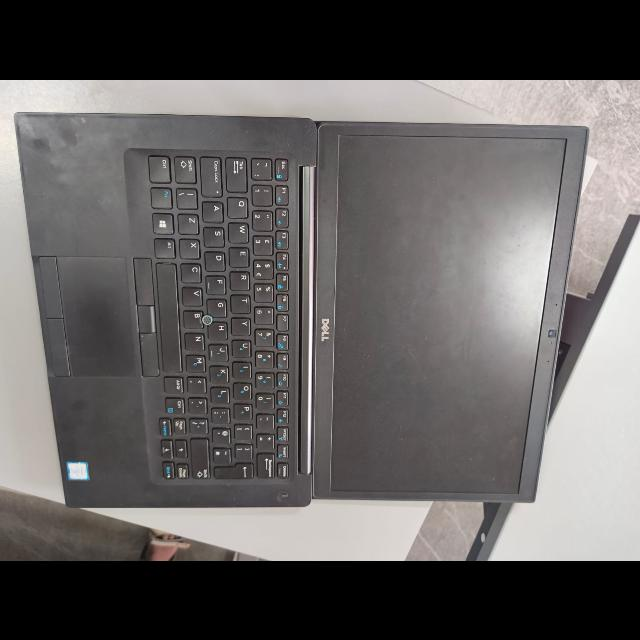laptop: (6, 101, 588, 526)
